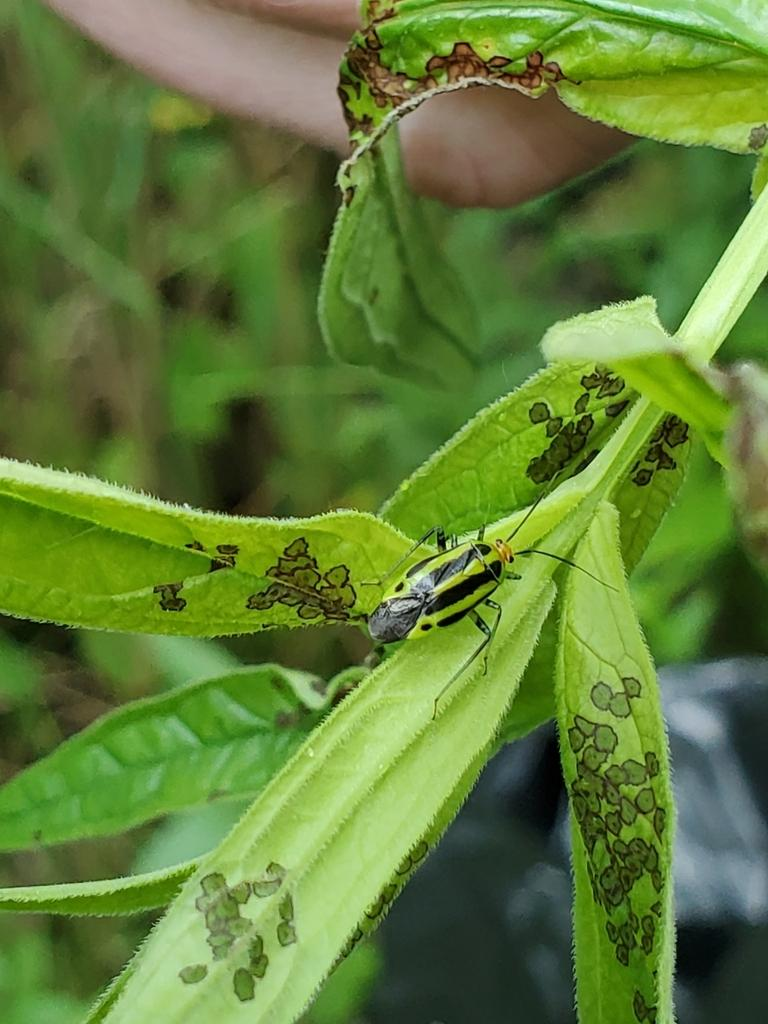plant_bugs: (324, 451, 637, 729)
